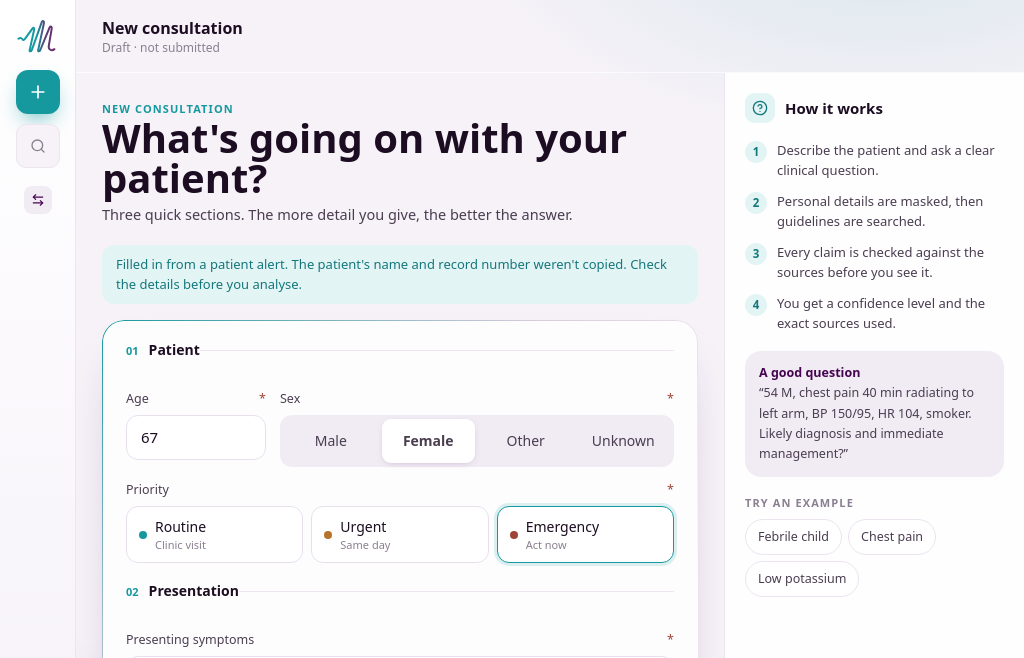
Home from a patient alert › forgets the prefill when the draft is discarded
The image size is (1024, 658).
Type "1" into the field labelled "Age *" at [196, 437], box [126,415,266,460]
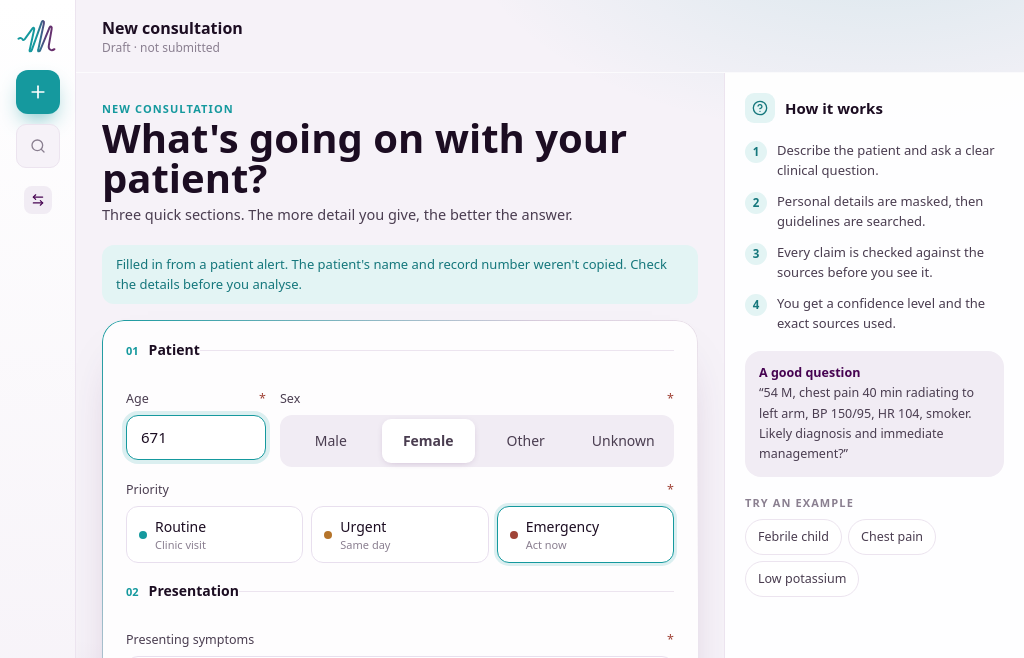
Click the link named "New consultation" at [38, 92], box [16,70,60,114]
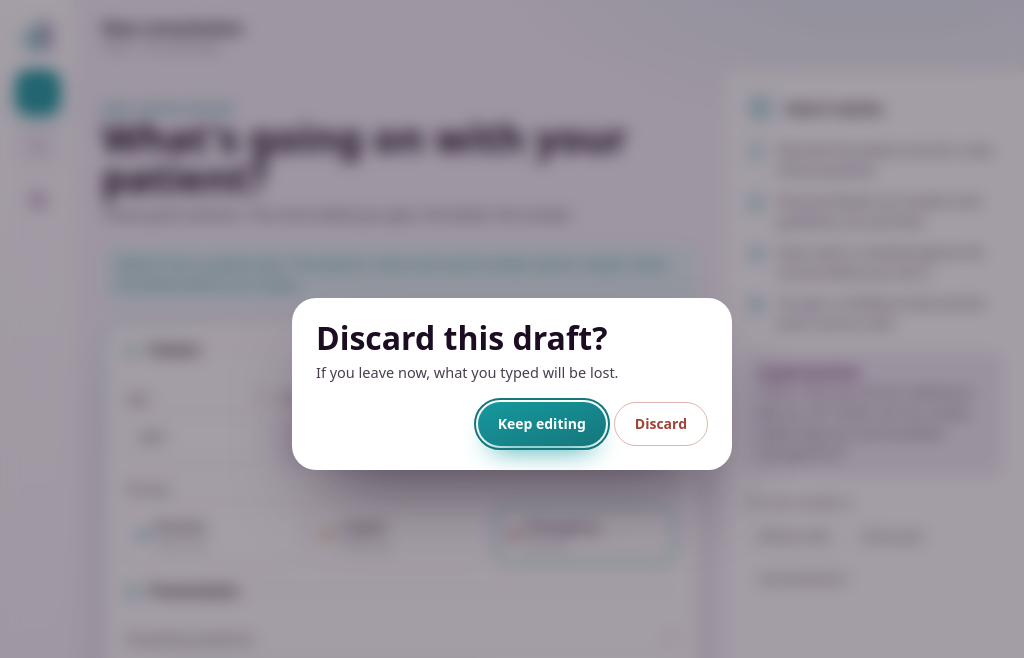
Click the button "Discard" at [661, 424], box [614,402,708,446]
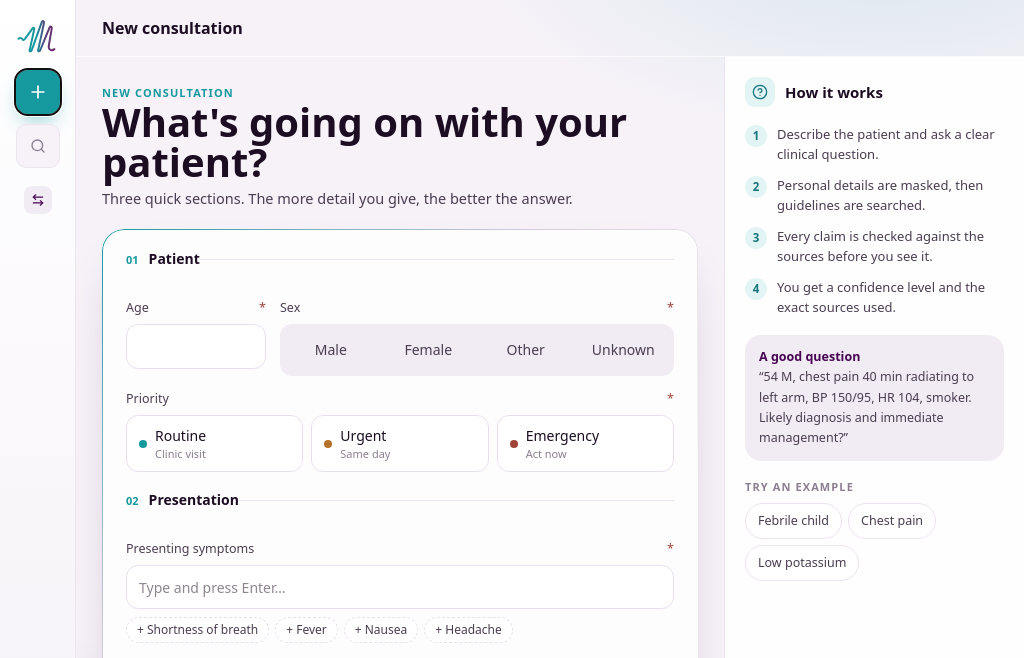
Result: the field labelled "Age *" is empty at [126,324,266,368]
Result: the text "Filled in from a patient alert" is gone
